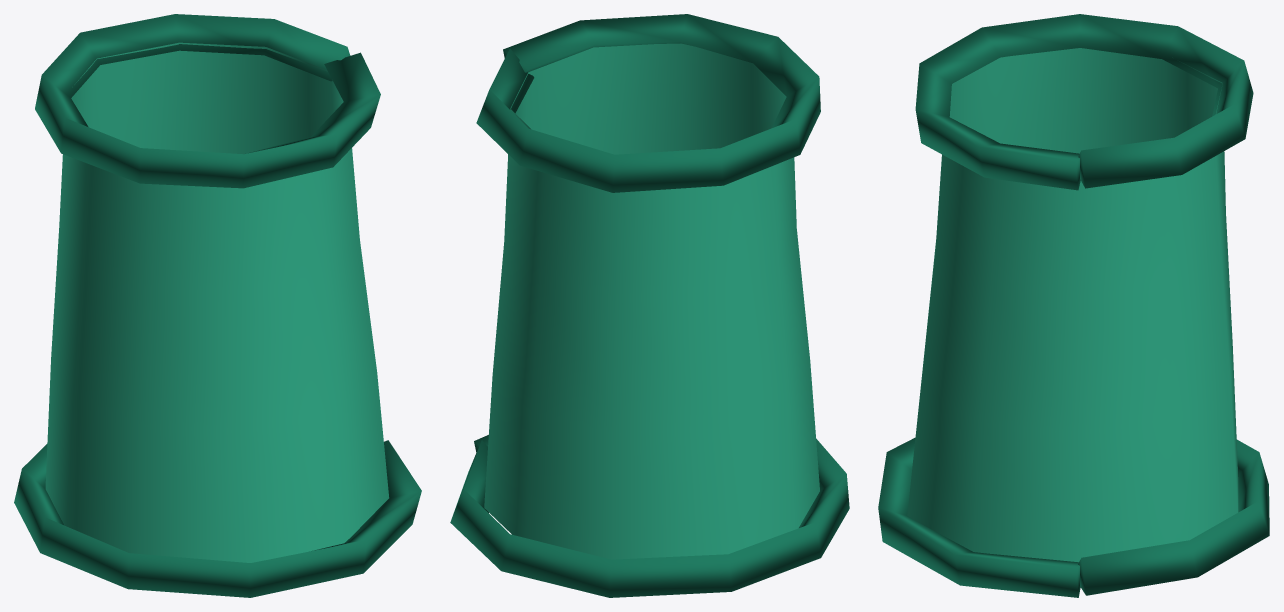
File: mythril_armor_bracer.R.glb
3 renders of one model, left to right at view 1: azimuth 30°, elevation 25°; view 2: azimuth 150°, elevation 25°; view 3: azimuth 270°, elevation 25°, orthographic.
Visible parts, largest first — view 1: mythril_armor_bracer.R; view 2: mythril_armor_bracer.R; view 3: mythril_armor_bracer.R.
Part boxes in pixels (x1,y1,x2,y2): mythril_armor_bracer.R: (14,14,421,597); mythril_armor_bracer.R: (450,14,849,597); mythril_armor_bracer.R: (878,14,1269,597).
Bounding box in the file's own units: 0.1435 × 0.1719 × 0.1408.
